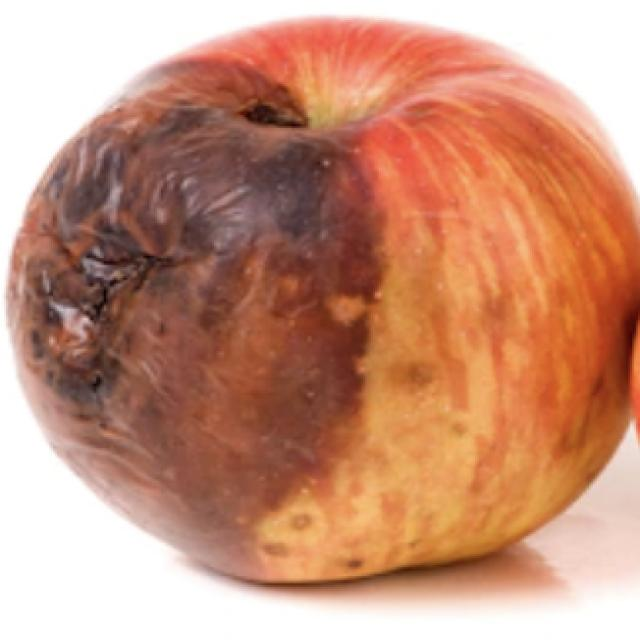rotten_apple: (0, 11, 639, 593)
